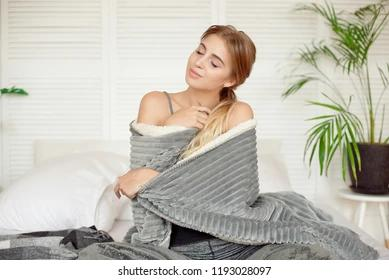blanket: (122, 119, 379, 260)
